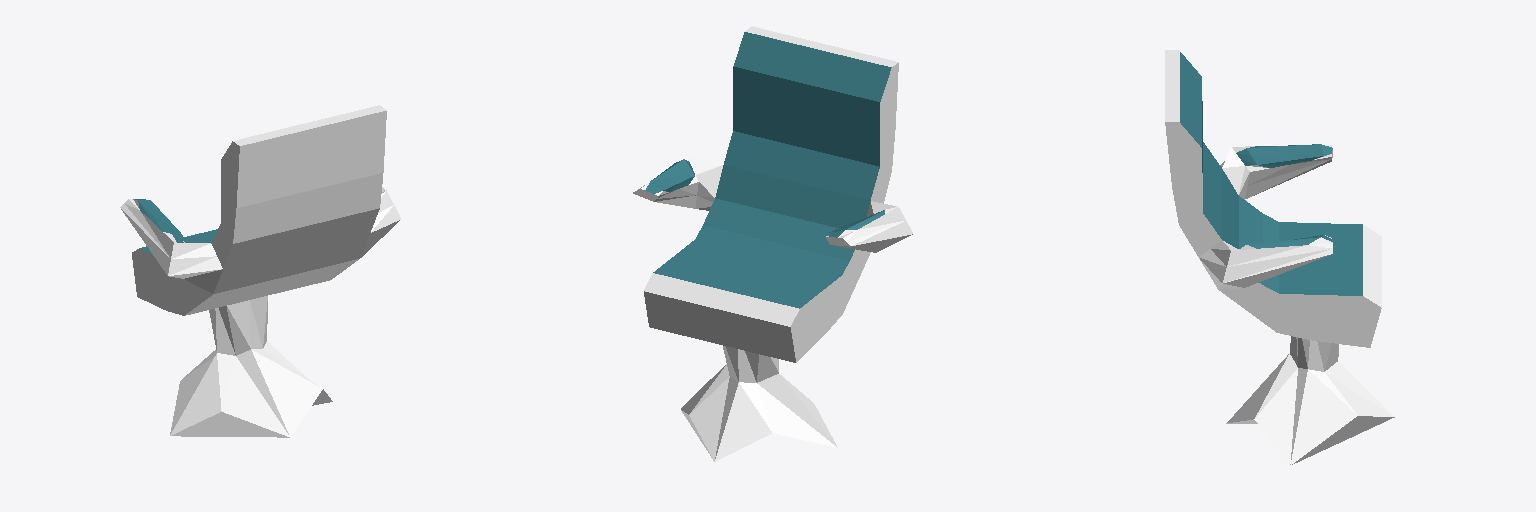
Rendered from Chair.obj.
3 views of the same model, side by side, from view 1: azimuth 30°, elevation 25°; view 2: azimuth 150°, elevation 25°; view 3: azimuth 270°, elevation 25° (orthographic).
Parts seen in each view (by area): view 1: Chair; view 2: Chair; view 3: Chair.
Boxes of the visible parts, box(x1,y1,x2,y2) form: Chair: box(120, 105, 400, 437); Chair: box(633, 26, 912, 461); Chair: box(1165, 50, 1394, 465).
Size of the model in its own units: 3.72 by 5.17 by 3.17.